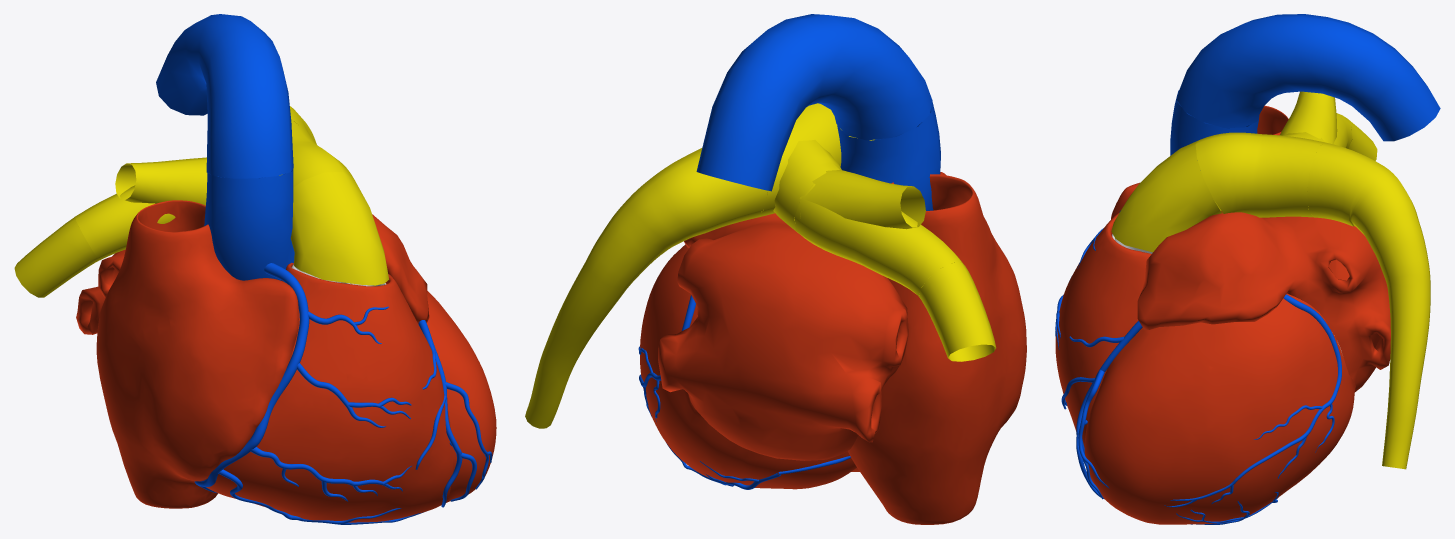
The model's file is heart.glb.
3 views of the same model, side by side, from view 1: azimuth 30°, elevation 25°; view 2: azimuth 150°, elevation 25°; view 3: azimuth 270°, elevation 25° (orthographic). The views are drawn at different scales.
Visible parts, largest first — view 1: Right atrium, Right ventricle, Aortic arch, Pulmonary trunk, Ascending aorta, Left ventricle, Right coronary artery, Left atrium, Middle lobar artery of right lung, Superior lobar artery of right lung, Right pulmonary artery, Anterior interventricular artery (+1 smaller); view 2: Left atrium, Right atrium, Aortic arch, Left pulmonary artery, Left ventricle, Right pulmonary artery, Ascending aorta, Bifurcation of pulmonary trunk, Middle lobar artery of right lung, Superior lobar artery of right lung, Circumflex artery of heart, Right inferolateral branch of right coronary artery; view 3: Left ventricle, Left atrium, Aortic arch, Left pulmonary artery, Right ventricle, Bifurcation of pulmonary trunk, Pulmonary trunk, Circumflex artery of heart, Anterior interventricular artery, Superior lobar artery of right lung, Ascending aorta, Right atrium (+2 smaller).
Part boxes in pixels (left/top/right/bottom): Right atrium: left=96, top=200, right=298, bottom=508; Right ventricle: left=199, top=263, right=453, bottom=522; Aortic arch: left=156, top=14, right=293, bottom=178; Pulmonary trunk: left=290, top=172, right=388, bottom=285; Ascending aorta: left=204, top=169, right=294, bottom=280; Left ventricle: left=426, top=291, right=496, bottom=502; Right coronary artery: left=194, top=263, right=423, bottom=524; Left atrium: left=76, top=214, right=429, bottom=334; Middle lobar artery of right lung: left=14, top=217, right=99, bottom=297; Superior lobar artery of right lung: left=115, top=157, right=207, bottom=205; Right pulmonary artery: left=75, top=185, right=175, bottom=259; Anterior interventricular artery: left=415, top=320, right=492, bottom=507; Left atrium: left=658, top=213, right=908, bottom=460; Right atrium: left=848, top=172, right=1026, bottom=524; Aortic arch: left=696, top=14, right=932, bottom=191; Left pulmonary artery: left=525, top=148, right=767, bottom=428; Left ventricle: left=640, top=244, right=856, bottom=489; Right pulmonary artery: left=794, top=183, right=963, bottom=296; Ascending aorta: left=837, top=101, right=940, bottom=210; Bifurcation of pulmonary trunk: left=754, top=103, right=855, bottom=233; Middle lobar artery of right lung: left=919, top=262, right=996, bottom=361; Superior lobar artery of right lung: left=799, top=170, right=925, bottom=229; Circumflex artery of heart: left=638, top=295, right=695, bottom=421; Right inferolateral branch of right coronary artery: left=666, top=443, right=780, bottom=489; Left ventricle: left=1084, top=294, right=1355, bottom=524; Left atrium: left=1137, top=211, right=1390, bottom=392; Aortic arch: left=1176, top=14, right=1440, bottom=141; Left pulmonary artery: left=1307, top=143, right=1430, bottom=469; Right ventricle: left=1055, top=212, right=1151, bottom=447; Bifurcation of pulmonary trunk: left=1195, top=132, right=1326, bottom=217; Pulmonary trunk: left=1111, top=140, right=1222, bottom=252; Circumflex artery of heart: left=1164, top=294, right=1341, bottom=507; Anterior interventricular artery: left=1061, top=321, right=1142, bottom=499; Superior lobar artery of right lung: left=1280, top=91, right=1337, bottom=144; Ascending aorta: left=1170, top=90, right=1259, bottom=155; Right atrium: left=1111, top=105, right=1288, bottom=293.
Bounding box in the file's own units: 0.1447 × 0.1602 × 0.1243.
